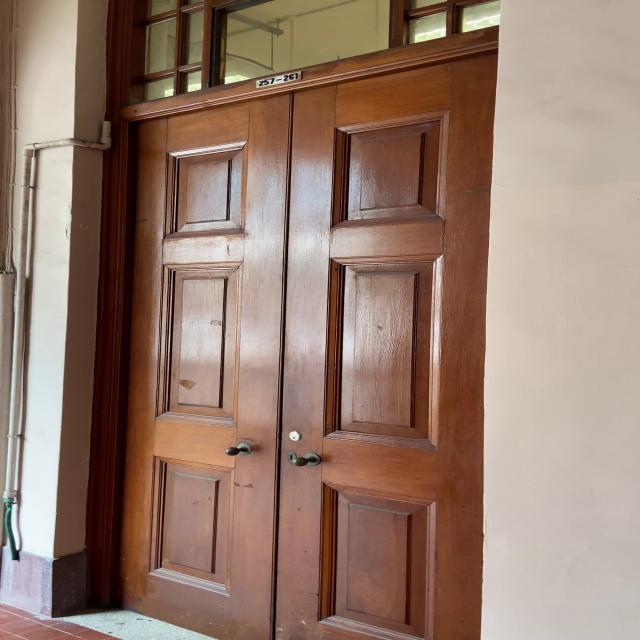room257: (247, 65, 307, 92)
room257door: (99, 25, 498, 640)
